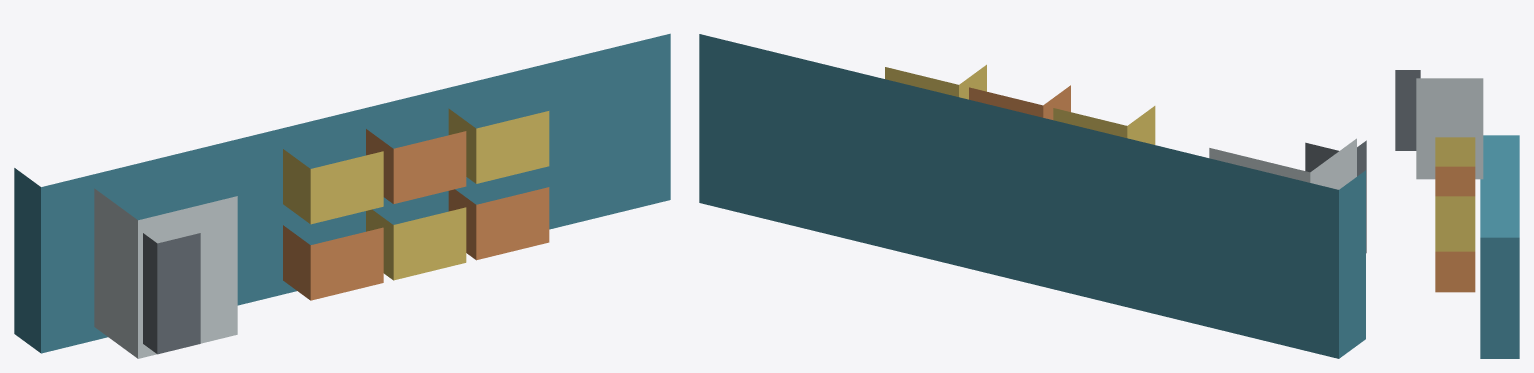
File: container-ship.glb
3 renders of one model, left to right at view 1: azimuth 30°, elevation 25°; view 2: azimuth 150°, elevation 25°; view 3: azimuth 270°, elevation 25°, orthographic. The views are drawn at different scales.
Bounding box in the file's own units: 9.5 × 2.4 × 2.22.
